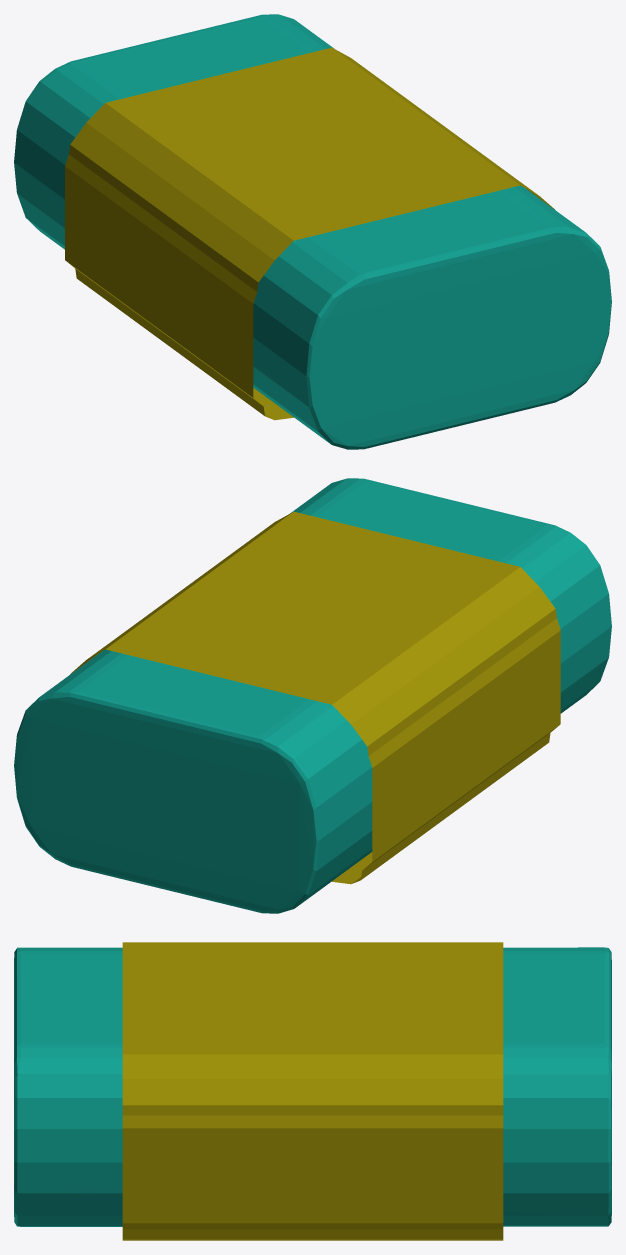
File: Eraser.fbx
3 renders of one model, top to bottom at view 1: azimuth 30°, elevation 25°; view 2: azimuth 150°, elevation 25°; view 3: azimuth 270°, elevation 25°, orthographic.
Visible parts, largest first — view 1: Cube, Cube.001; view 2: Cube, Cube.001; view 3: Cube.001, Cube.
Part boxes in pixels (x1=…): Cube: x1=14, y1=14, x2=611, y2=449; Cube.001: x1=65, y1=47, x2=554, y2=420; Cube: x1=14, y1=478, x2=611, y2=913; Cube.001: x1=70, y1=511, x2=560, y2=884; Cube.001: x1=122, y1=942, x2=503, y2=1240; Cube: x1=14, y1=947, x2=611, y2=1226.
Size of the model in its own units: 188 by 104 by 314.
